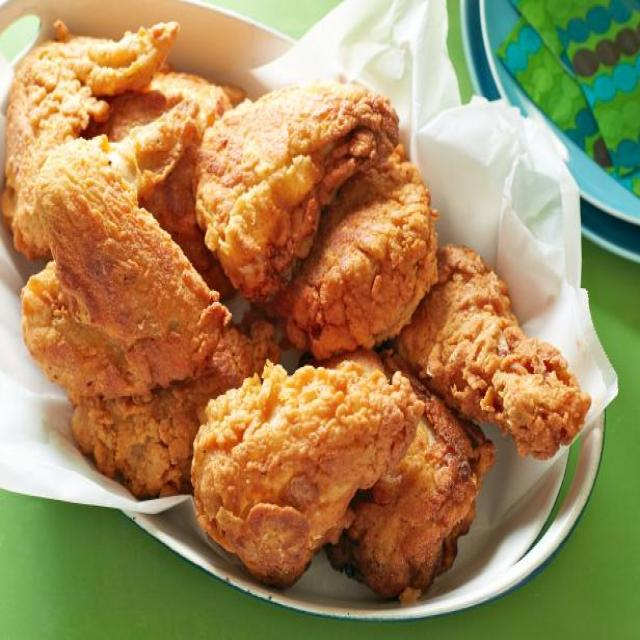Frango: (0, 7, 592, 609)
